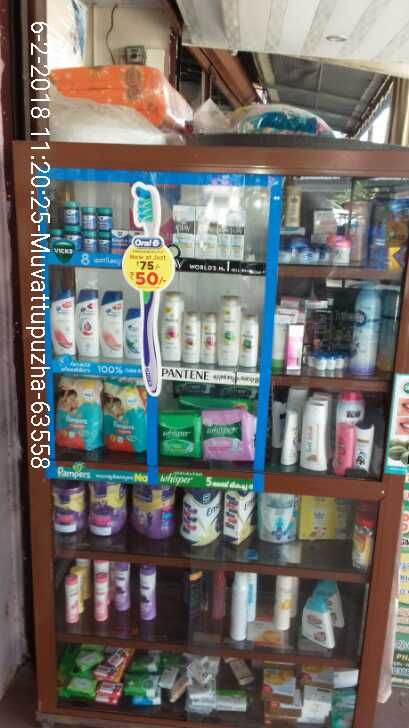vicks: (52, 199, 136, 254)
